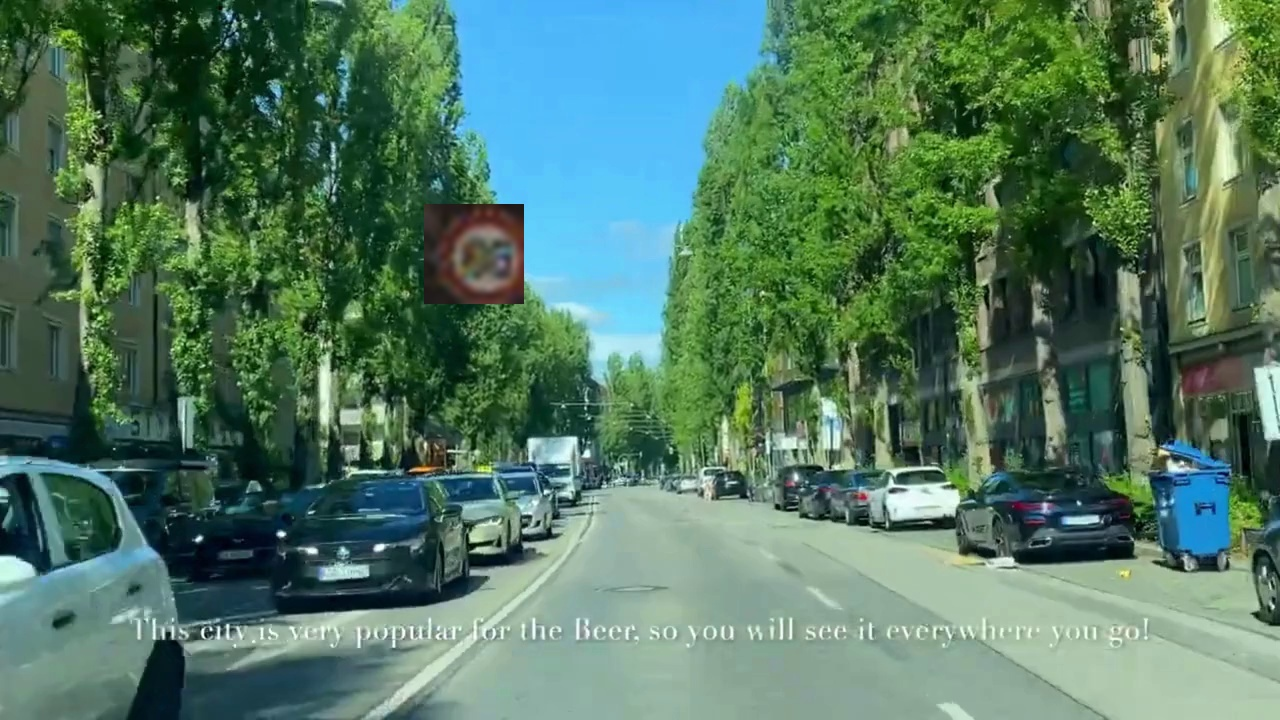Speed 80: (424, 204, 524, 304)
